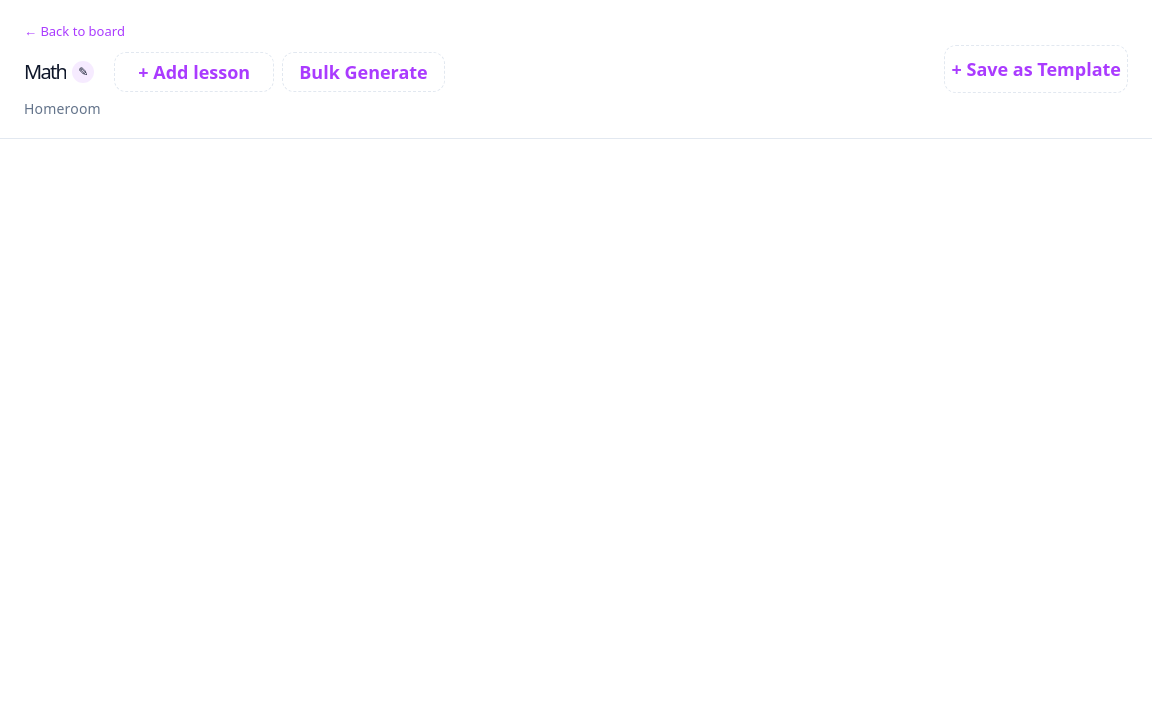
Test: Curriculum › opens the add-lesson form as a modal (dialog role) instead of an inline-expanding card
The image size is (1152, 720).
What coordinates should you click on to do the following:
click the button "+ Add lesson"
I would click on:
 (194, 72)
Its box is [114,52,274,92].
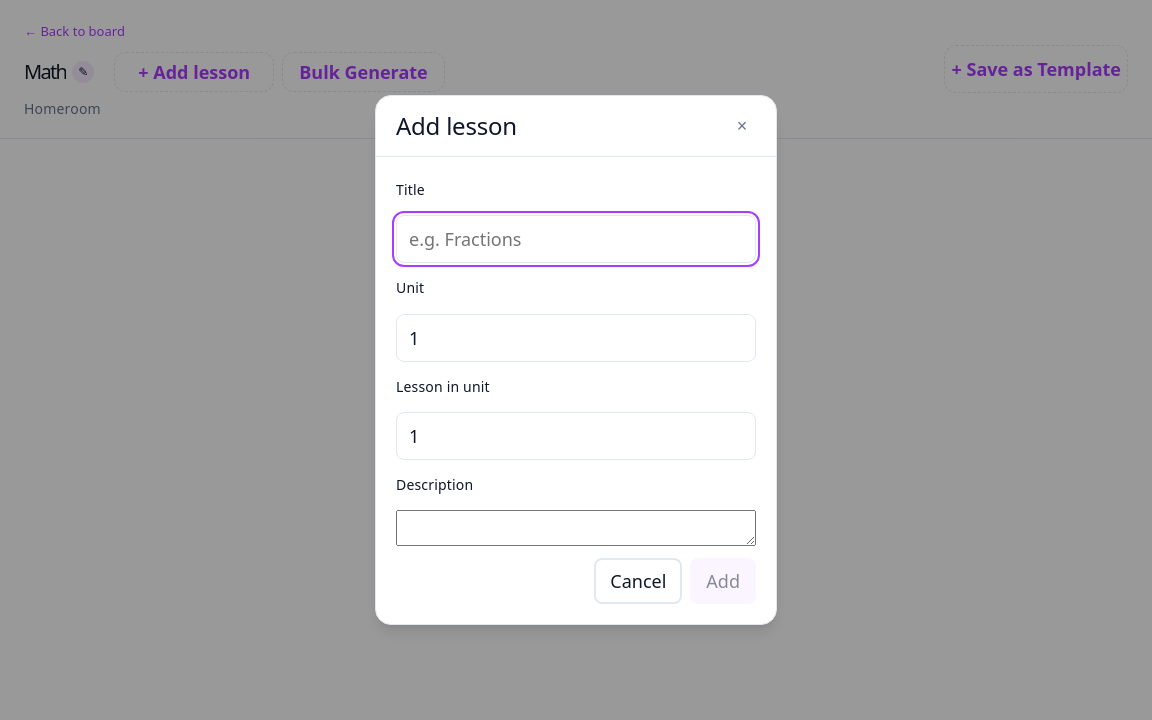
Expected: the dialog is shown, [375,95,777,625]
